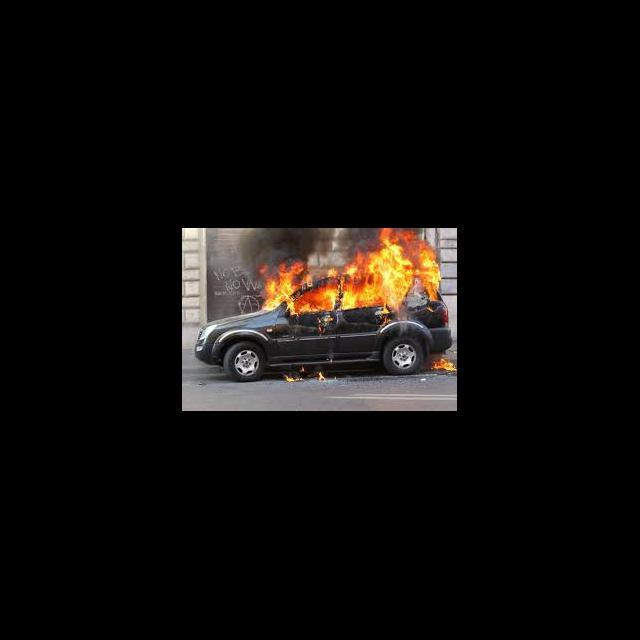Fire: (254, 228, 443, 318)
